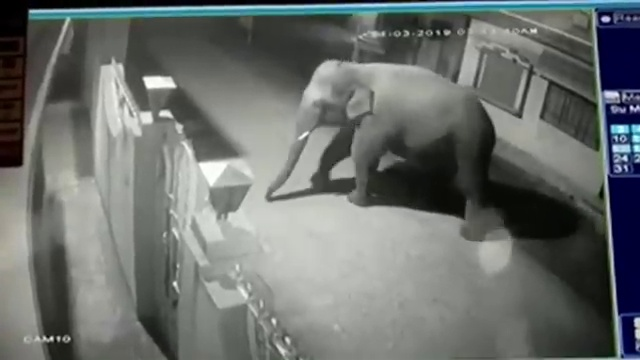Elephant: (266, 60, 496, 243)
